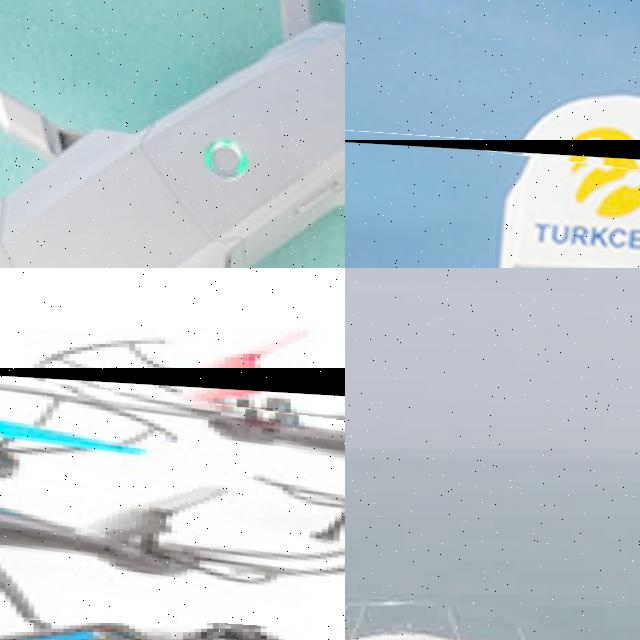drone: (0, 0, 345, 268), (0, 368, 345, 623), (345, 140, 640, 268)
